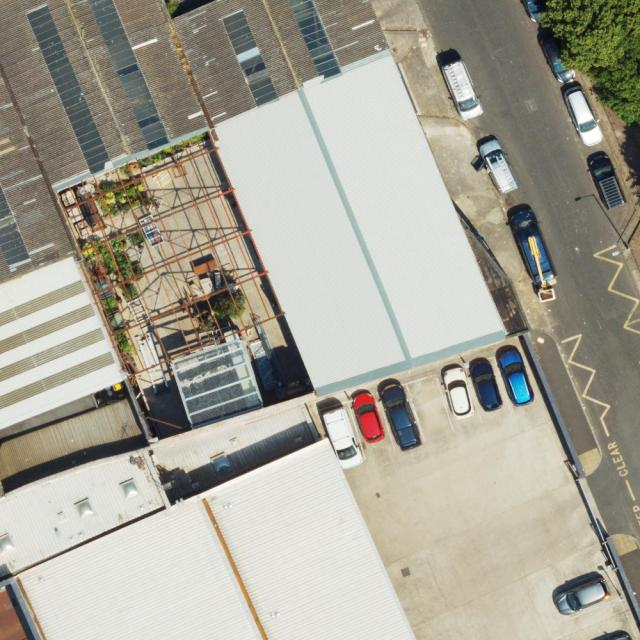roof: (0, 0, 512, 429), (0, 397, 416, 640)
skylight: (23, 2, 115, 176), (86, 0, 170, 152), (218, 8, 281, 109), (288, 0, 344, 83), (0, 183, 31, 267)
